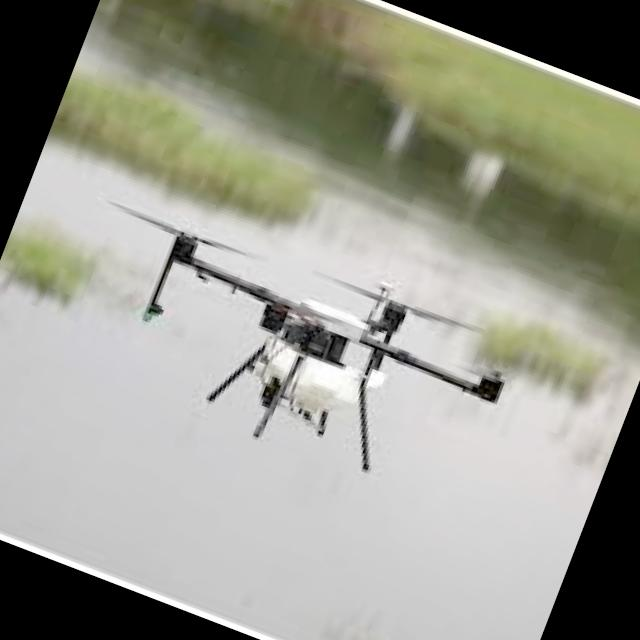drone: (38, 166, 554, 544)
